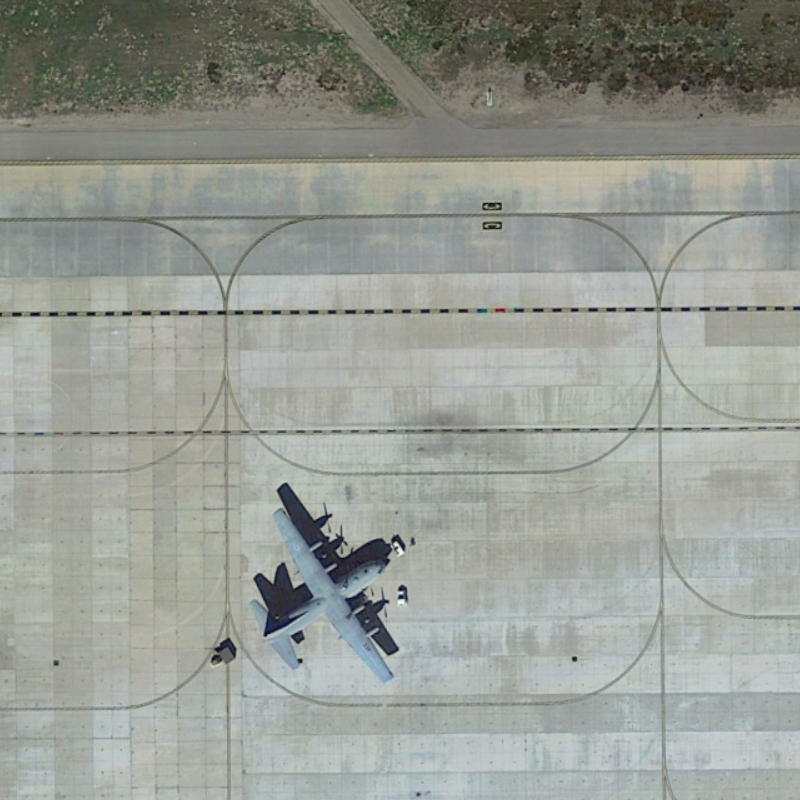A2: (243, 496, 416, 692)
